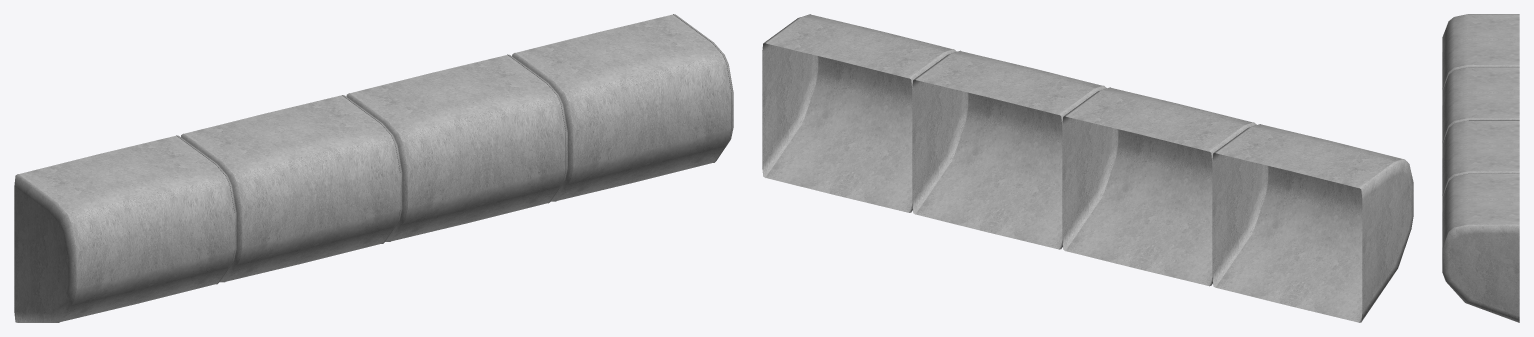
Rendered from tracks low poly.fbx.
3 renders of one model, left to right at view 1: azimuth 30°, elevation 25°; view 2: azimuth 150°, elevation 25°; view 3: azimuth 270°, elevation 25°, orthographic. The views are drawn at different scales.
Parts seen in each view (by area): view 1: Tracks; view 2: Tracks; view 3: Tracks.
Boxes of the visible parts, x1,y1,x2,y2 form: Tracks: [14, 14, 733, 322]; Tracks: [762, 14, 1413, 322]; Tracks: [1442, 14, 1519, 322].
Bounding box in the file's own units: 1306 × 281 × 200.
Materials: 1 (1 with a texture image).
